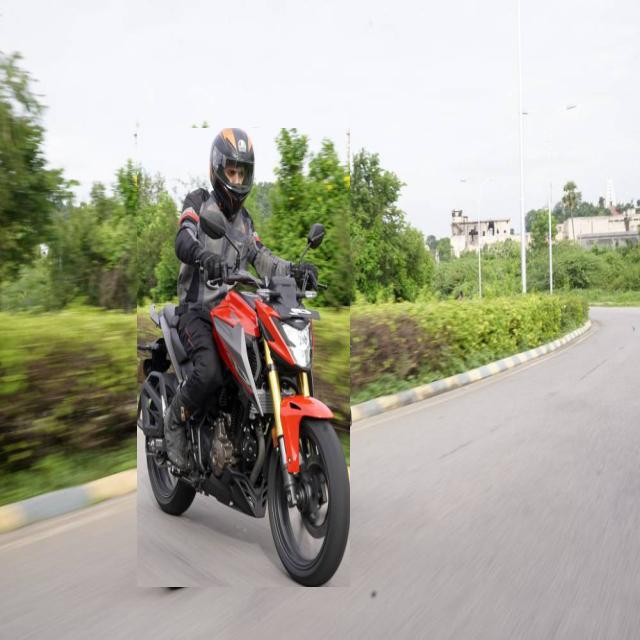motorcycle: (138, 129, 350, 587)
